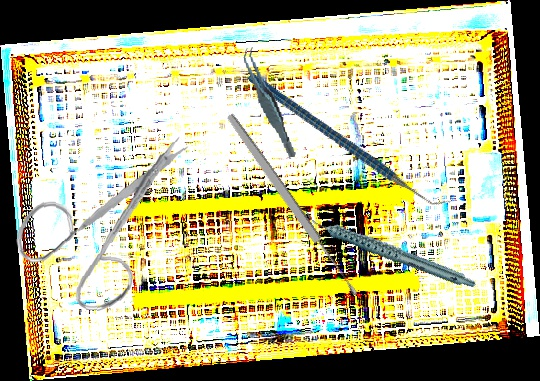Chopper: (247, 23, 452, 257)
Handpiece: (300, 178, 478, 321)
Iris Scissors: (10, 121, 192, 318)
Surgical Spoon: (224, 111, 361, 299)
Tissue Forceps: (241, 42, 297, 163)
